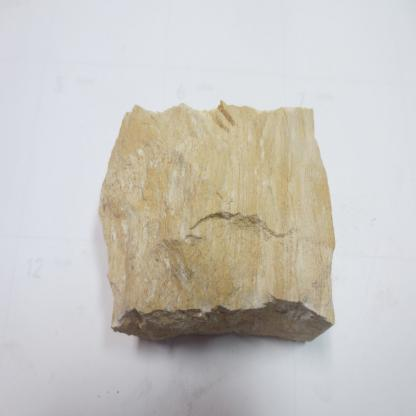Sedimentary_Limestone: (88, 89, 339, 376)
